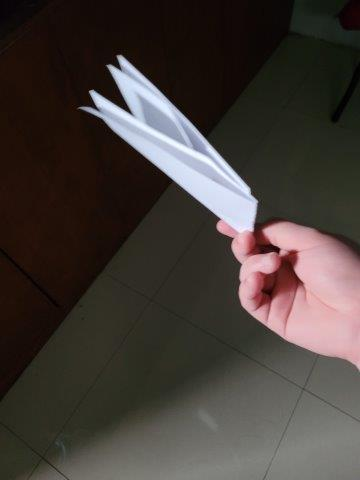kertas: (73, 54, 260, 238)
